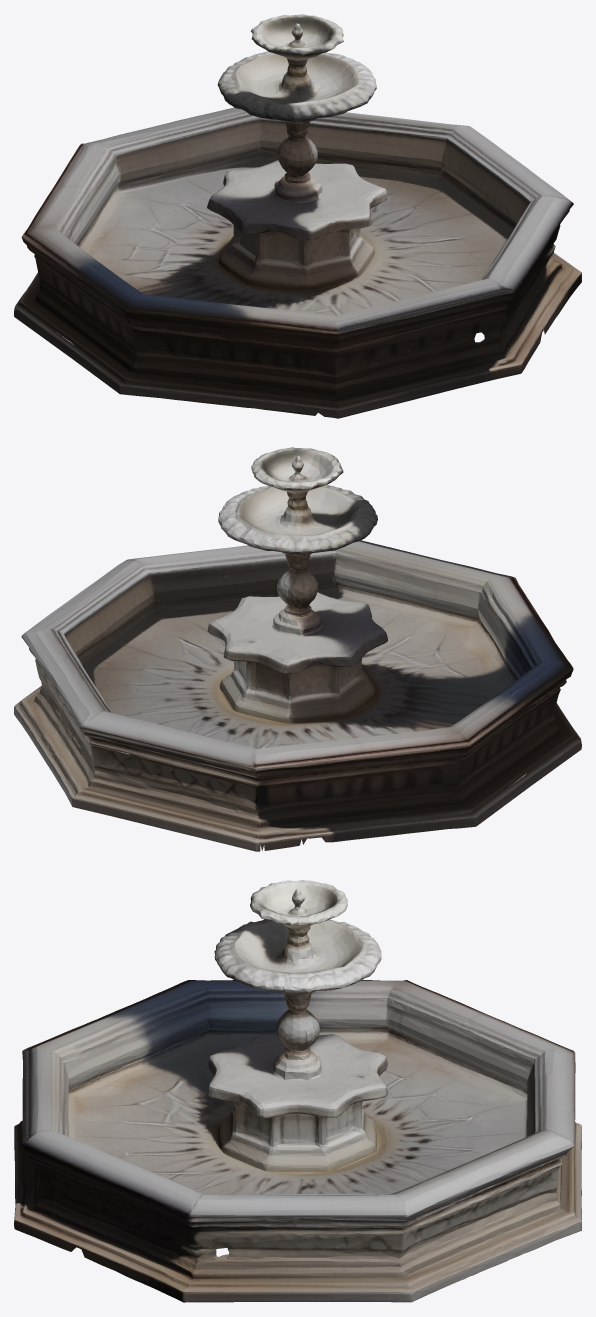
The model's file is fountainGLB.glb.
The picture shows the model from 3 angles, top to bottom: view 1: azimuth 30°, elevation 25°; view 2: azimuth 150°, elevation 25°; view 3: azimuth 270°, elevation 25°; orthographic projection. The views are drawn at different scales.
Parts seen in each view (by area): view 1: world; view 2: world; view 3: world.
Boxes of the visible parts, x1,y1,x2,y2 form: world: (14,14,581,418); world: (14,447,581,851); world: (14,880,581,1302).
Size of the model in its own units: 1 by 0.5708 by 1.
Materials: 1 (1 with a texture image).
